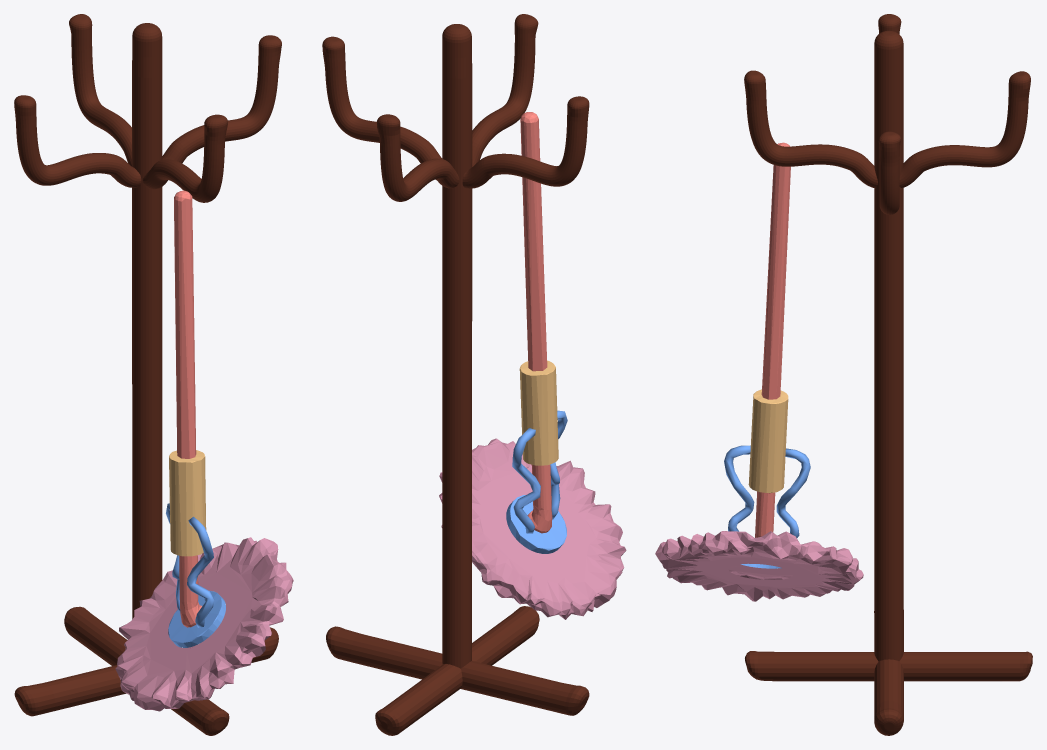
Rendered from hanger_rotation_mop.fbx.
3 views of the same model, side by side, from view 1: azimuth 30°, elevation 25°; view 2: azimuth 150°, elevation 25°; view 3: azimuth 270°, elevation 25° (orthographic). The views are drawn at different scales.
Parts seen in each view (by area): view 1: BézierKurwa1; view 2: BézierKurwa1; view 3: BézierKurwa1.
Boxes of the visible parts, bbox=[...] form: BézierKurwa1: bbox=[14, 14, 293, 735]; BézierKurwa1: bbox=[322, 14, 626, 735]; BézierKurwa1: bbox=[655, 14, 1032, 735].
Bounding box in the file's own units: 135 × 323 × 171.
